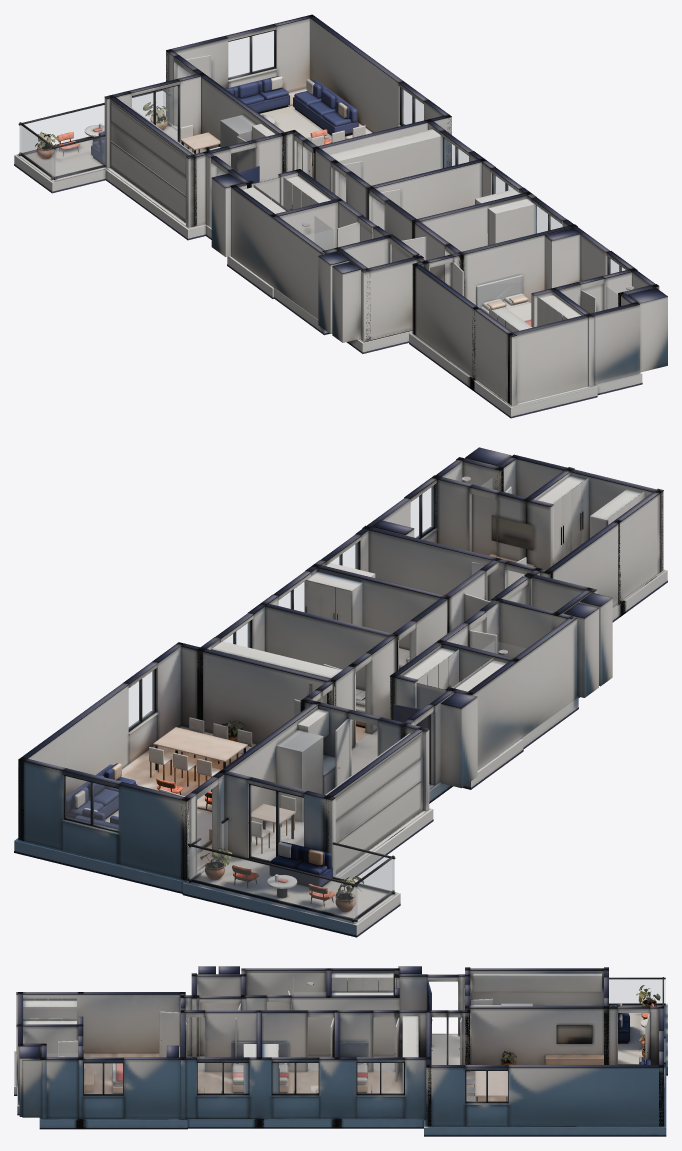
The picture shows the model from 3 angles, top to bottom: view 1: azimuth 30°, elevation 25°; view 2: azimuth 150°, elevation 25°; view 3: azimuth 270°, elevation 25°; orthographic projection. The views are drawn at different scales.
Visible parts, largest first — view 1: plan, railg0_m, glass0_m, railg1_m, glass2_m, railg3_m; view 2: plan, railg0_m, glass2_m, glass0_m, railg1_m, railg3_m, glass1_m, glass6_m; view 3: plan, glass5_m, glass3_m, glass4_m, glass1_m, railg3_m, glass6_m.
Boxes of the visible parts, x1,y1,x2,y2 form: plan: [14, 14, 667, 418]; railg0_m: [19, 91, 162, 153]; glass0_m: [228, 31, 274, 77]; railg1_m: [52, 137, 104, 177]; glass2_m: [132, 86, 177, 140]; railg3_m: [20, 126, 55, 177]; plan: [14, 447, 667, 937]; railg0_m: [188, 846, 357, 919]; glass2_m: [250, 785, 303, 861]; glass0_m: [65, 776, 118, 830]; railg1_m: [333, 845, 394, 891]; railg3_m: [353, 859, 393, 919]; glass1_m: [129, 670, 154, 728]; glass6_m: [411, 486, 433, 537]; plan: [14, 966, 667, 1136]; glass5_m: [198, 1063, 248, 1093]; glass3_m: [357, 1063, 403, 1093]; glass4_m: [272, 1063, 318, 1093]; glass1_m: [466, 1071, 507, 1101]; railg3_m: [609, 979, 665, 1003]; glass6_m: [84, 1063, 122, 1093].
Bounding box in the file's own units: 10.19 × 2.62 × 22.66.
2 materials, 1 textured.
